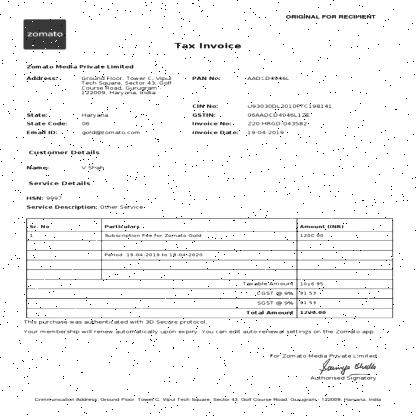Paragraph: (22, 319, 376, 337), (190, 102, 334, 136), (238, 280, 328, 317), (25, 74, 174, 96), (32, 396, 384, 404), (25, 112, 142, 136), (25, 195, 145, 211), (26, 63, 134, 70), (269, 353, 378, 359), (284, 13, 377, 20), (190, 75, 292, 81), (172, 42, 242, 50), (28, 149, 102, 155), (310, 376, 378, 382), (25, 165, 106, 170), (27, 180, 92, 186)
Table: (27, 218, 392, 260)
